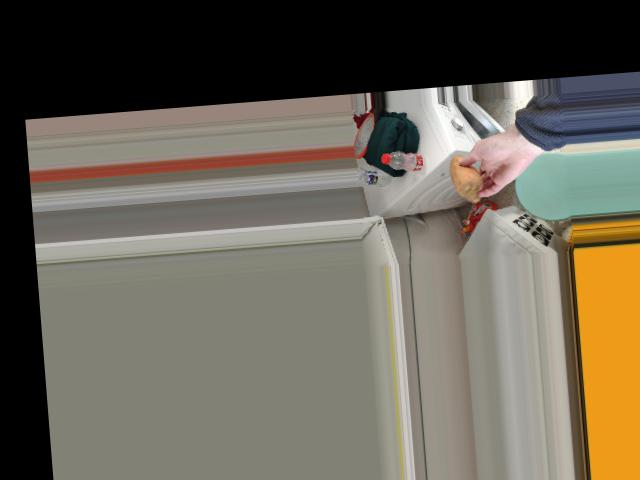sweet_potato: (448, 155, 488, 199)
